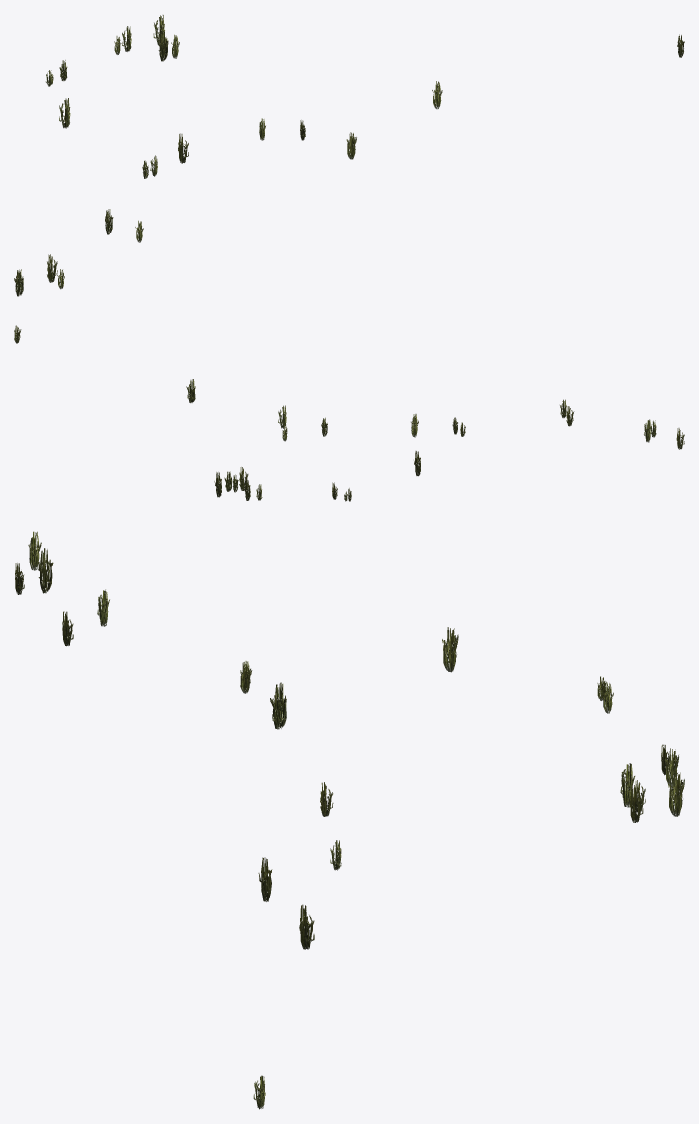
File: Cactus01.glb
3 views of the same model, one above another, from view 1: azimuth 30°, elevation 25°; view 2: azimuth 150°, elevation 25°; view 3: azimuth 270°, elevation 25° (orthographic). The views are drawn at different scales.
Parts seen in each view (by area): view 1: Cactus01Web; view 2: Cactus01Web; view 3: Cactus01Web.
Boxes of the visible parts, bbox=[...] form: Cactus01Web: bbox=[14, 15, 684, 296]; Cactus01Web: bbox=[14, 325, 684, 501]; Cactus01Web: bbox=[15, 531, 684, 1109].
Size of the model in its own units: 140 by 12.8 by 71.68.
1 material, 1 textured.
